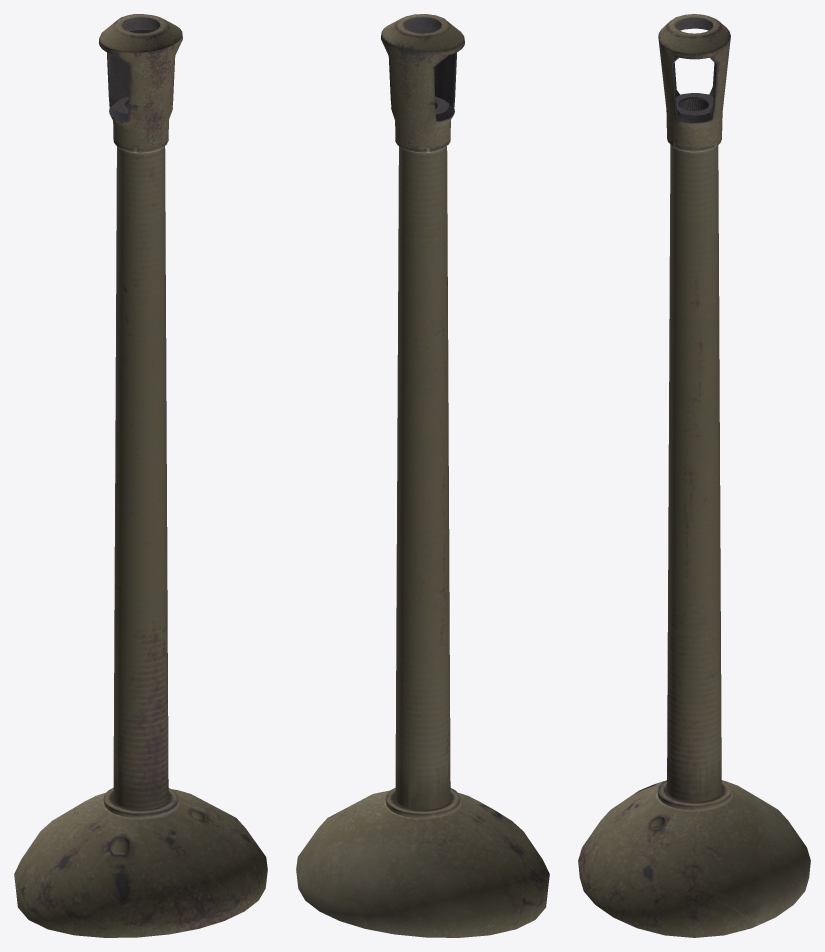
File: Gun_04.glb
3 views of the same model, side by side, from view 1: azimuth 30°, elevation 25°; view 2: azimuth 150°, elevation 25°; view 3: azimuth 270°, elevation 25° (orthographic).
Visible parts, largest first — view 1: set_0_group_0; view 2: set_0_group_0; view 3: set_0_group_0.
Boxes of the visible parts, x1,y1,x2,y2 form: set_0_group_0: [14, 14, 267, 937]; set_0_group_0: [296, 14, 549, 937]; set_0_group_0: [578, 14, 810, 937].
Bounding box in the file's own units: 1.35 × 4.9 × 1.2.
Materials: 1 (1 with a texture image).
